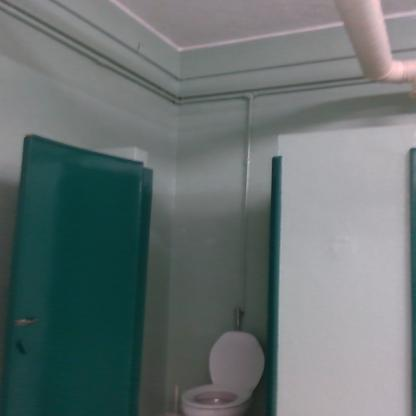open: (11, 110, 322, 415)
